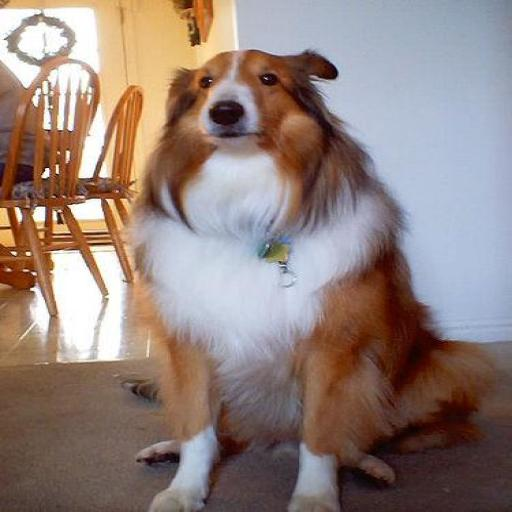dog_face: (159, 44, 337, 155)
